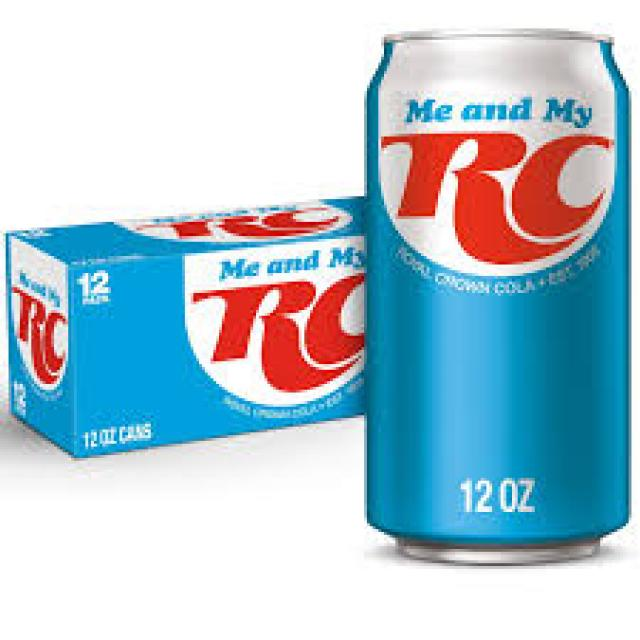Cans: (358, 23, 640, 566)
